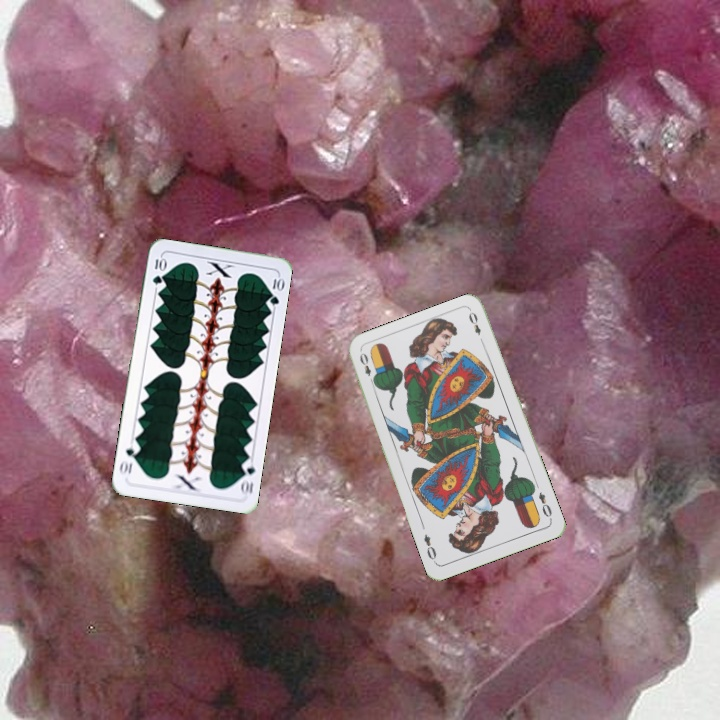EO: (356, 349, 378, 388), (534, 488, 555, 523)
G10: (236, 456, 258, 497), (149, 253, 167, 287)
